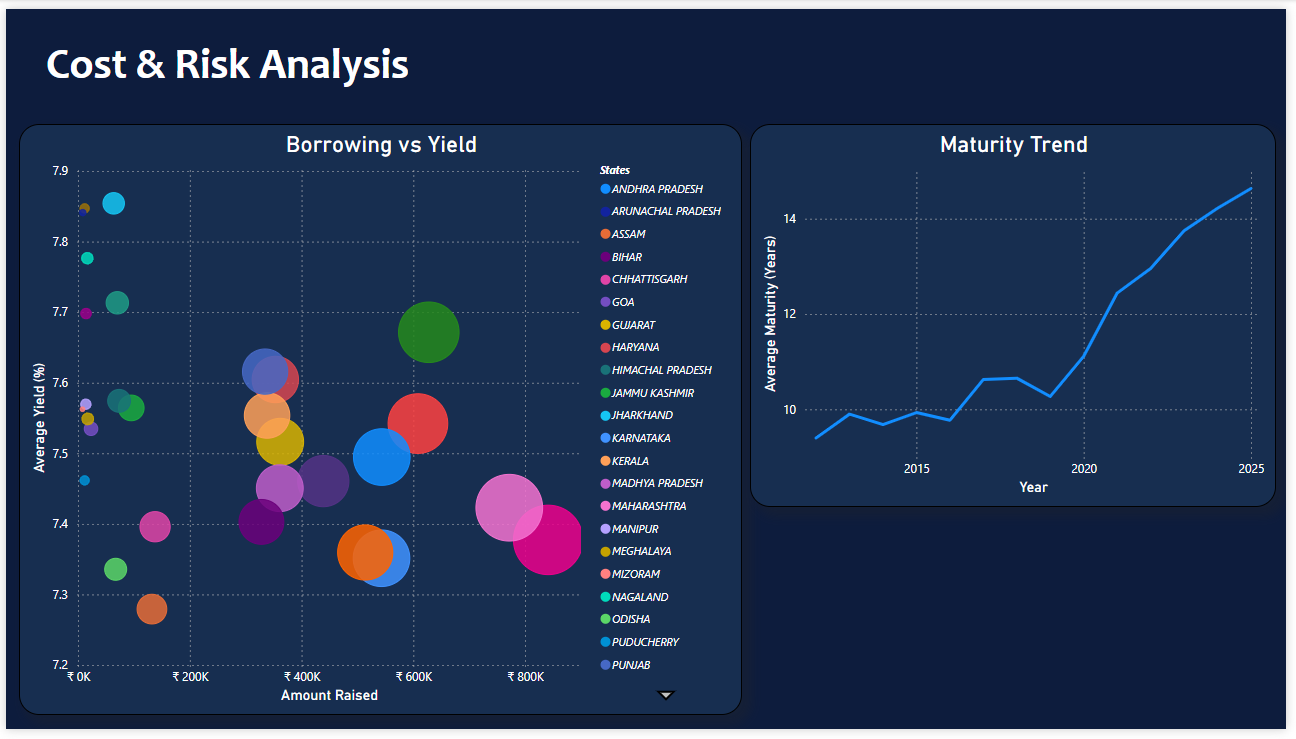

This screenshot's page, from the dashboard's own definition file:
{"tool":"powerbi","page":{"name":"Cost and Risk Analysis","canvas":[1280,720],"ordinal":2},"visuals":[{"type":"scatterChart","title":"Borrowing vs Yield","fields":{"X":["Sum(clean_state_market_borrowings (2).notified_amount)"],"Y":["Avg(clean_state_market_borrowings (2).Cut Off Yield)"],"Series":["clean_state_market_borrowings (2).state"],"Size":["Sum(clean_state_market_borrowings (2).notified_amount)"]},"box":[13,115,723,591],"z":0},{"type":"lineChart","title":"Maturity Trend","fields":{"Category":["clean_state_market_borrowings (2).issue_date.Variation.Date Hierarchy.Year","clean_state_market_borrowings (2).issue_date.Variation.Date Hierarchy.Quarter","clean_state_market_borrowings (2).issue_date.Variation.Date Hierarchy.Month","clean_state_market_borrowings (2).issue_date.Variation.Date Hierarchy.Day"],"Y":["Avg(clean_state_market_borrowings (2).maturity_residual_period)"]},"box":[744,115,526,383],"z":1000},{"type":"textbox","box":[35,23,770,67],"z":2000}]}

Visuals, with their boxes in screenshot pixels (x1, y1, x2, y2), scaled from the page's 1280x720 canvas onto the 1296x739 screenshot:
"Borrowing vs Yield" scatterChart: 13 118 745 725
"Maturity Trend" lineChart: 753 118 1286 511
textbox: 35 24 815 92
